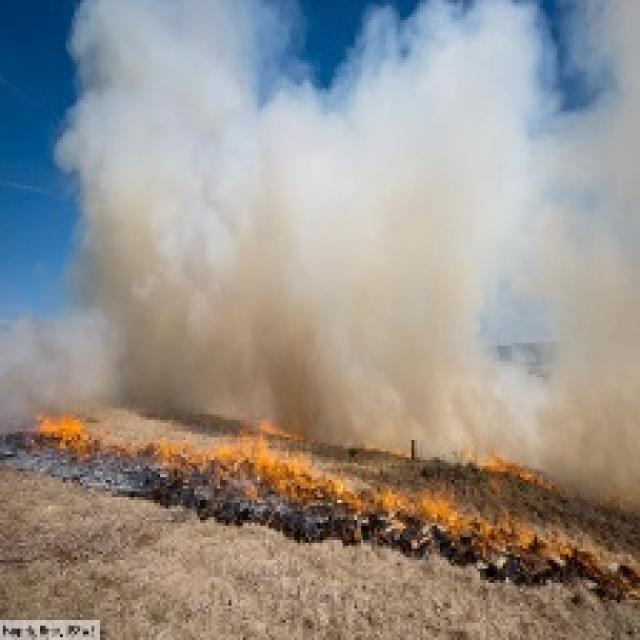Fire: (162, 430, 454, 530)
Smoke: (54, 0, 640, 320), (128, 320, 640, 423), (0, 310, 125, 427), (497, 422, 640, 508)
